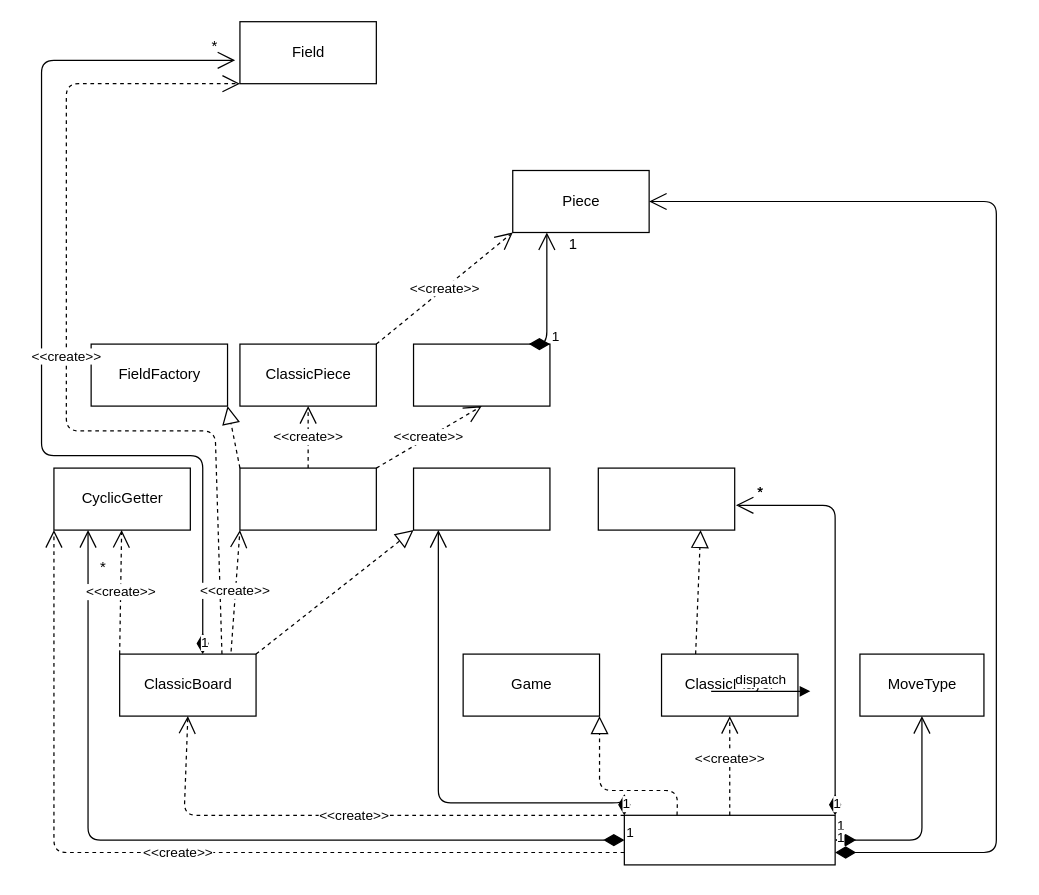
Image size: 1039x895. Some labels were removed from this diagram. Each missing label, with the centre of its shape:
"Board" goes at (481,498).
"ClassicField" goes at (481,374).
"ClassicFieldFactory" goes at (307,498).
"ClassicGame" goes at (729,839).
"Player" goes at (666,498).
